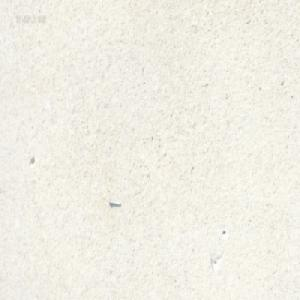Nail: (108, 199, 123, 208)
